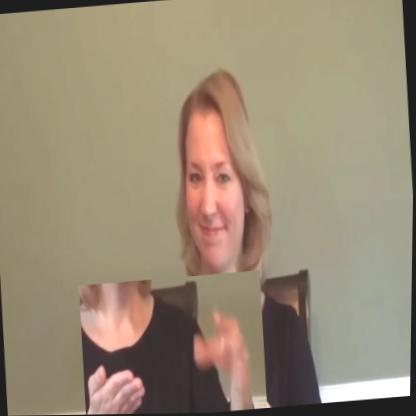Expensive: (78, 271, 270, 415)
